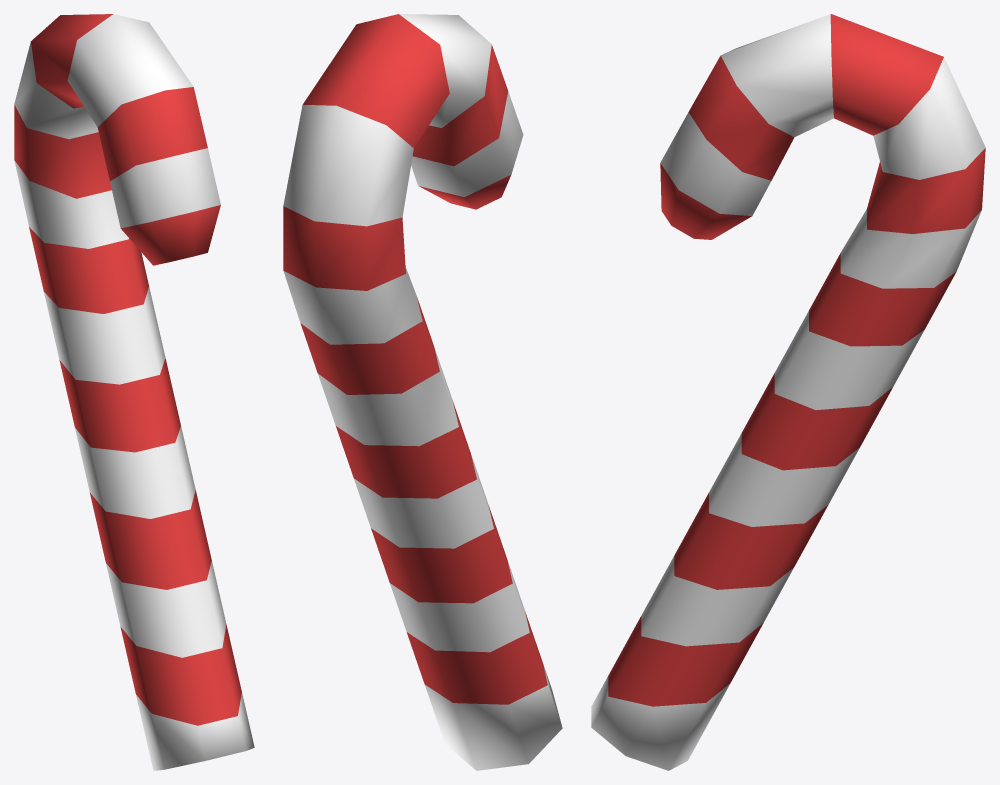
Rendered from CandyCane.gltf.
The picture shows the model from 3 angles, left to right: view 1: azimuth 30°, elevation 25°; view 2: azimuth 150°, elevation 25°; view 3: azimuth 270°, elevation 25°; orthographic projection. The views are drawn at different scales.
Visible parts, largest first — view 1: Cylinder; view 2: Cylinder; view 3: Cylinder.
Part boxes in pixels (x1,y1,x2,y2): Cylinder: (14, 14, 254, 770); Cylinder: (283, 14, 562, 770); Cylinder: (591, 14, 985, 770).
Bounding box in the file's own units: 0.1024 × 0.7613 × 0.3646.
1 material, 1 textured.
